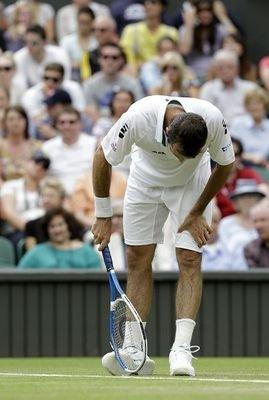bending: (91, 93, 242, 384)
